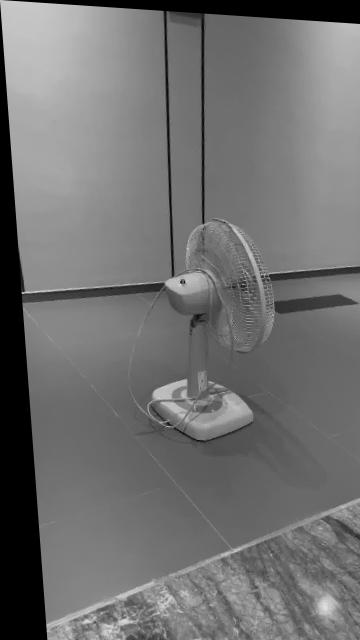Fan: (143, 216, 270, 440)
